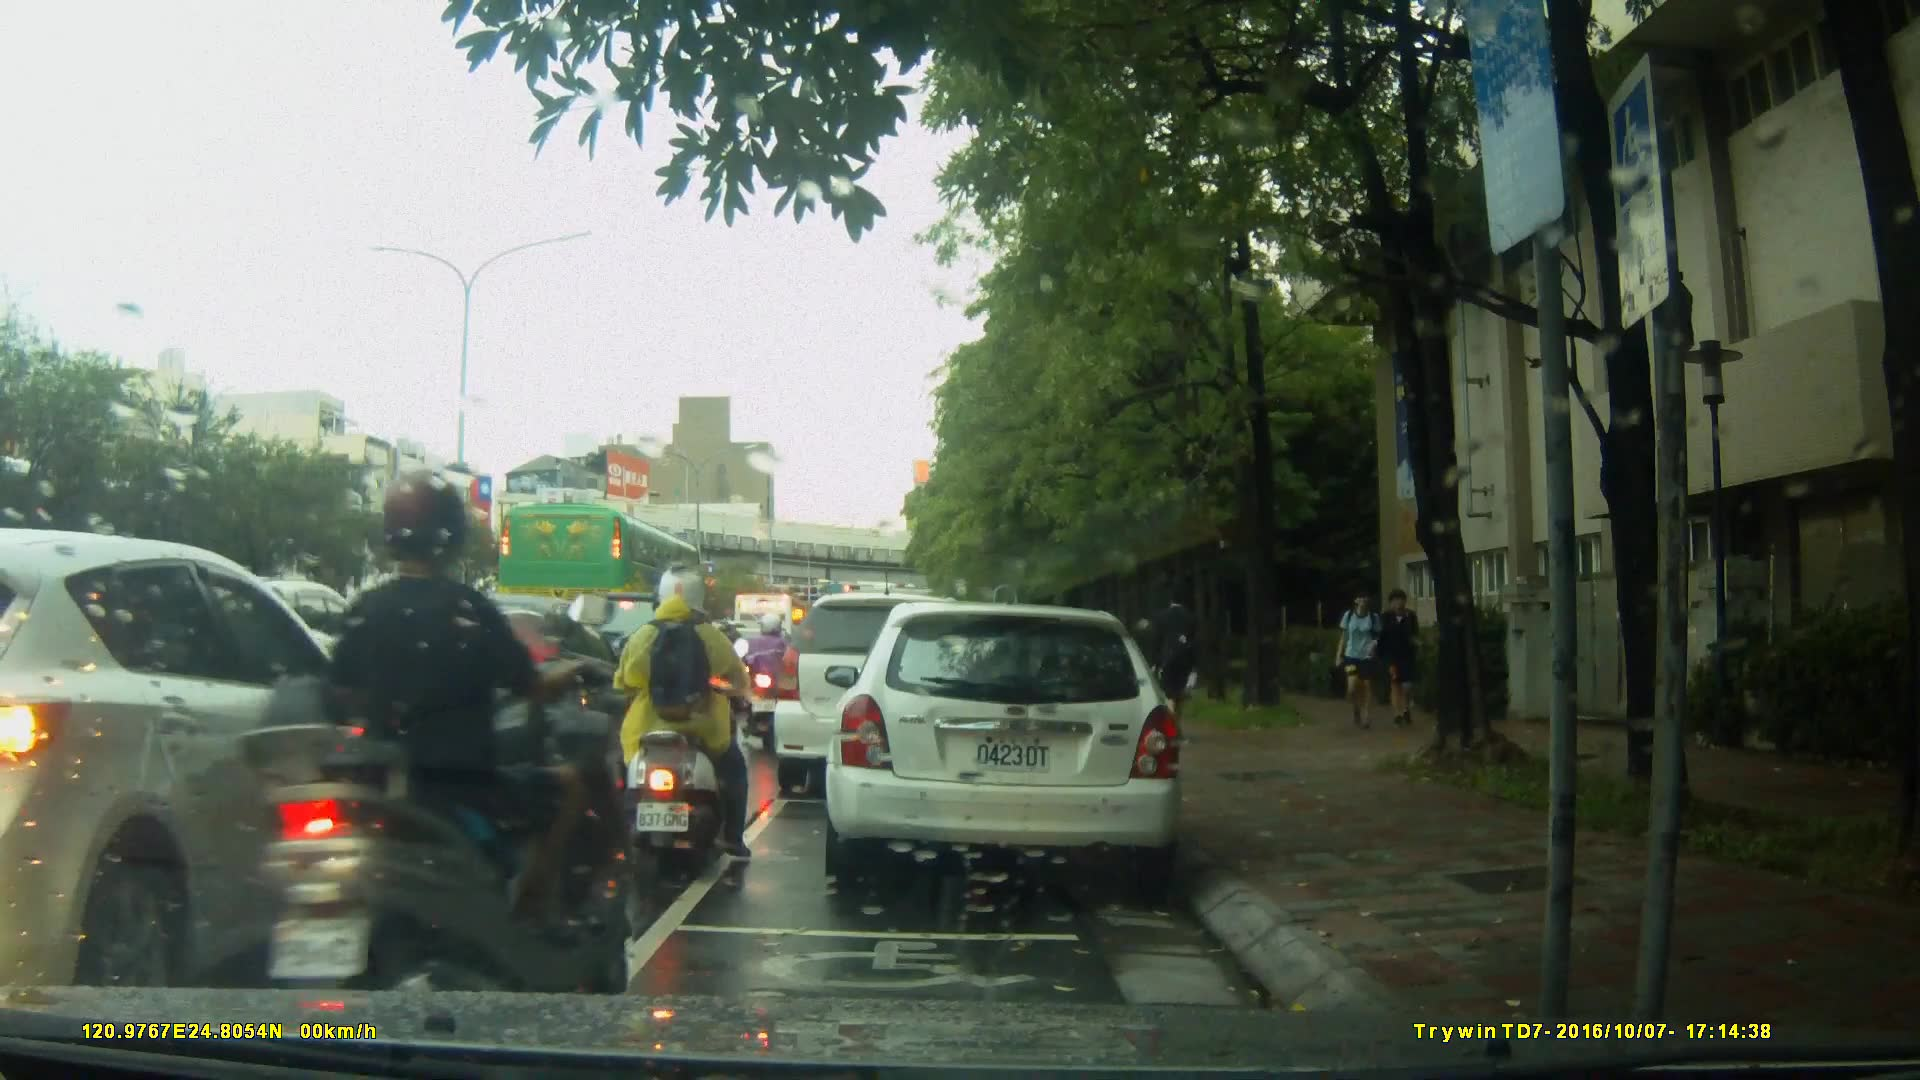pedestrian: (1320, 586, 1378, 738), (1148, 587, 1203, 749), (1378, 584, 1421, 734)
rider: (223, 466, 641, 1063), (620, 562, 759, 866), (739, 611, 802, 748)
vehicle: (1, 527, 440, 987), (831, 592, 1196, 897), (314, 592, 656, 804), (770, 592, 999, 800), (495, 502, 707, 640)
